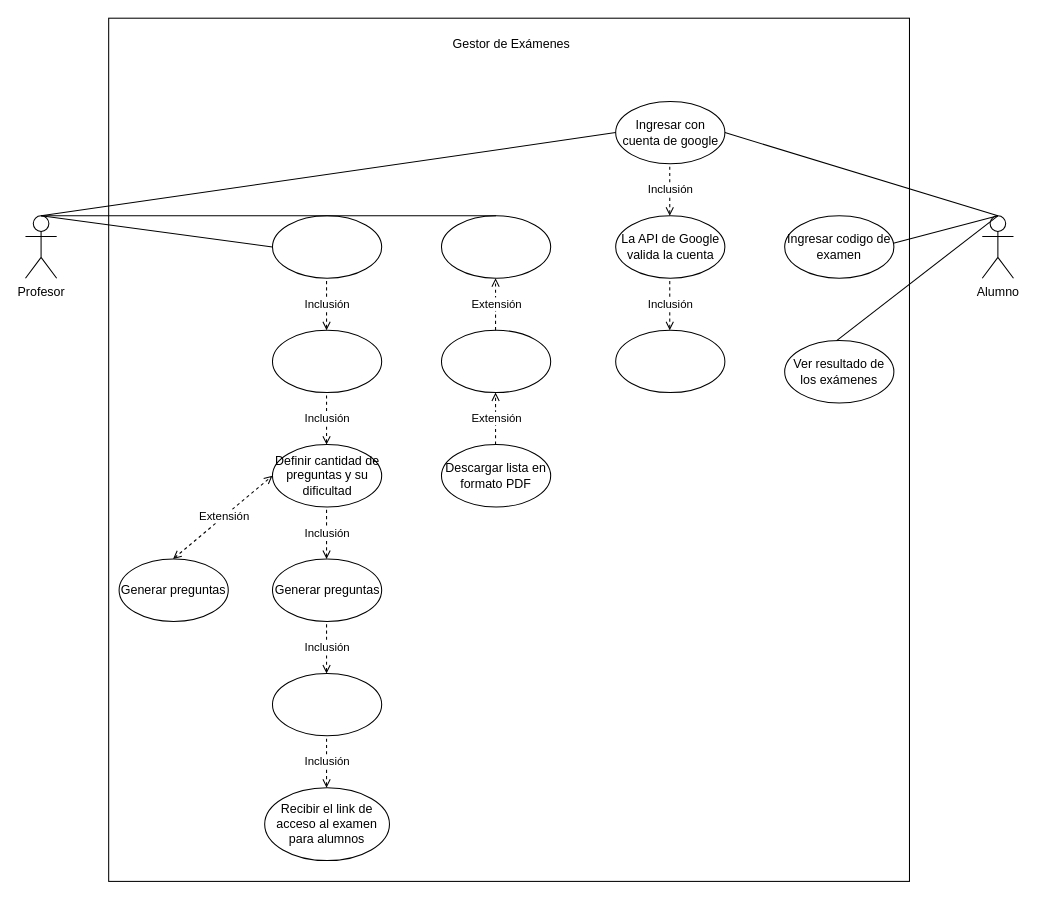
Some shapes in this 1037 by 900 pixel diagram are drawn without their labels. The box of each missing label's shape, as (x1, y1, x2, y2) in pixels:
Definir el rol como profesor o alumno: (615, 329, 725, 393)
Definir tema/s: (271, 329, 382, 393)
Finalizar examen: (271, 672, 382, 736)
Generar examen: (271, 215, 382, 278)
Ver modelos de examenes anteriores: (440, 215, 551, 278)
Ver resultados de cada alumno: (440, 329, 551, 393)
